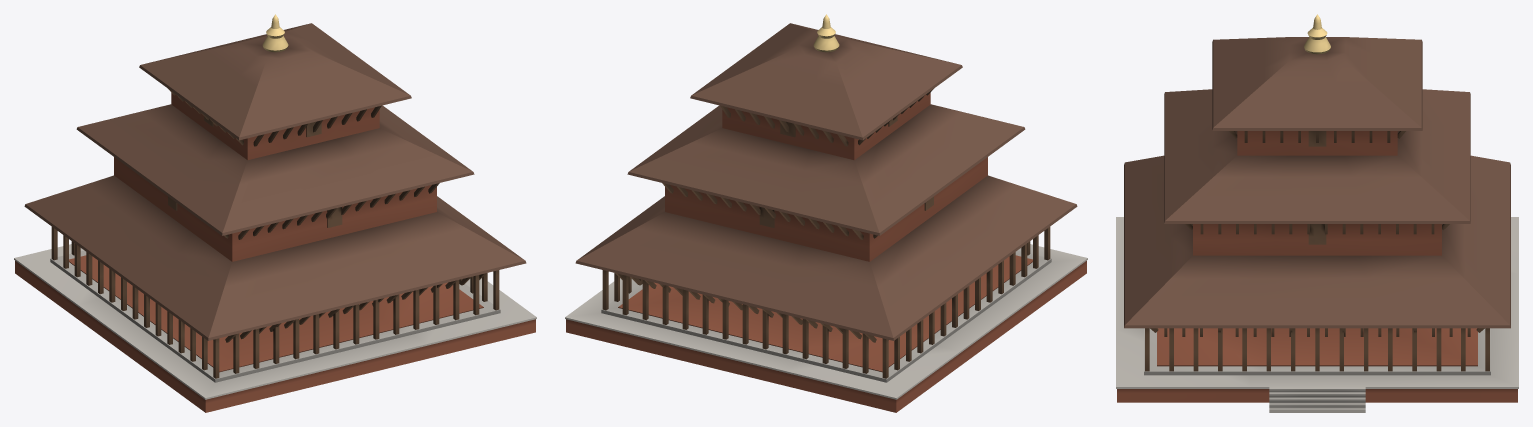
The model's file is kasthamandap.glb.
The picture shows the model from 3 angles, left to right: view 1: azimuth 30°, elevation 25°; view 2: azimuth 150°, elevation 25°; view 3: azimuth 270°, elevation 25°; orthographic projection. The views are drawn at different scales.
Parts seen in each view (by area): view 1: model-tile, model-brick, model-wood, model-gold; view 2: model-tile, model-brick, model-wood, model-gold; view 3: model-tile, model-brick, model-wood, model-gold.
Part boxes in pixels (x1,y1,x2,y2): model-tile: (24, 23, 526, 340); model-brick: (14, 93, 536, 412); model-wood: (51, 89, 499, 378); model-gold: (262, 14, 288, 52); model-tile: (575, 23, 1077, 340); model-brick: (565, 93, 1087, 412); model-wood: (602, 89, 1050, 378); model-gold: (813, 14, 839, 52); model-tile: (1124, 37, 1510, 328); model-brick: (1116, 131, 1518, 412); model-wood: (1145, 131, 1489, 371); model-gold: (1304, 14, 1330, 54).
Size of the model in its own units: 26.55 by 20.9 by 25.1.
4 materials, 4 textured.
